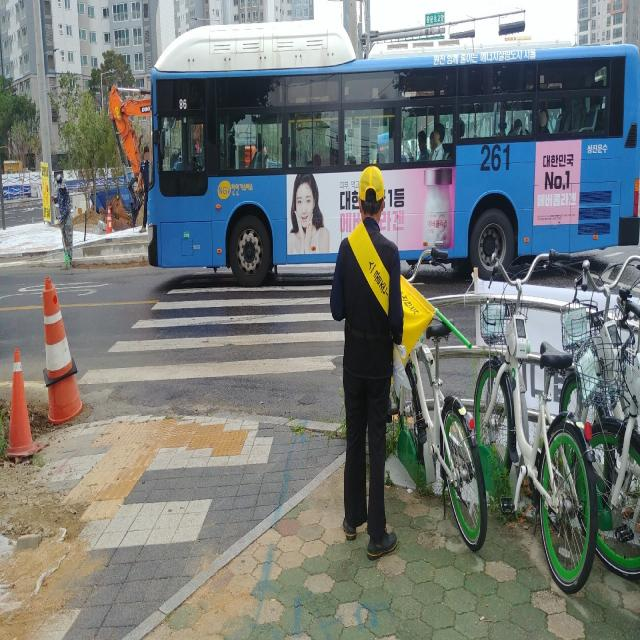횡단보도: (76, 260, 347, 387)
